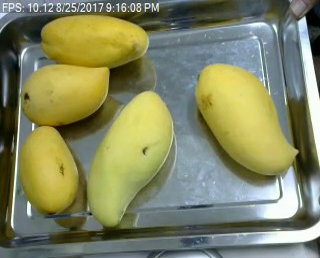Mango: (192, 61, 301, 183), (85, 87, 174, 229), (39, 15, 149, 69), (17, 123, 80, 216), (21, 63, 113, 126)
